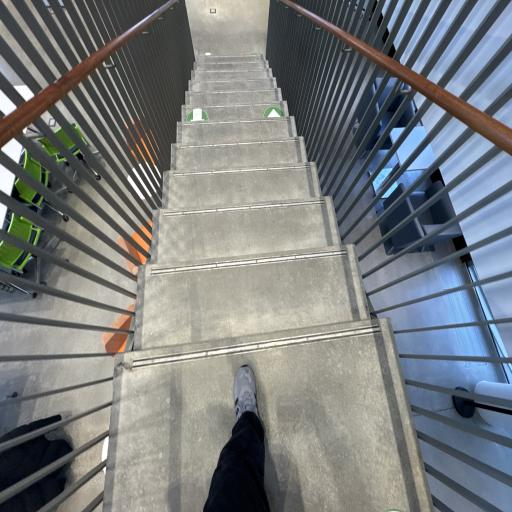Stairs: (103, 55, 432, 512)
